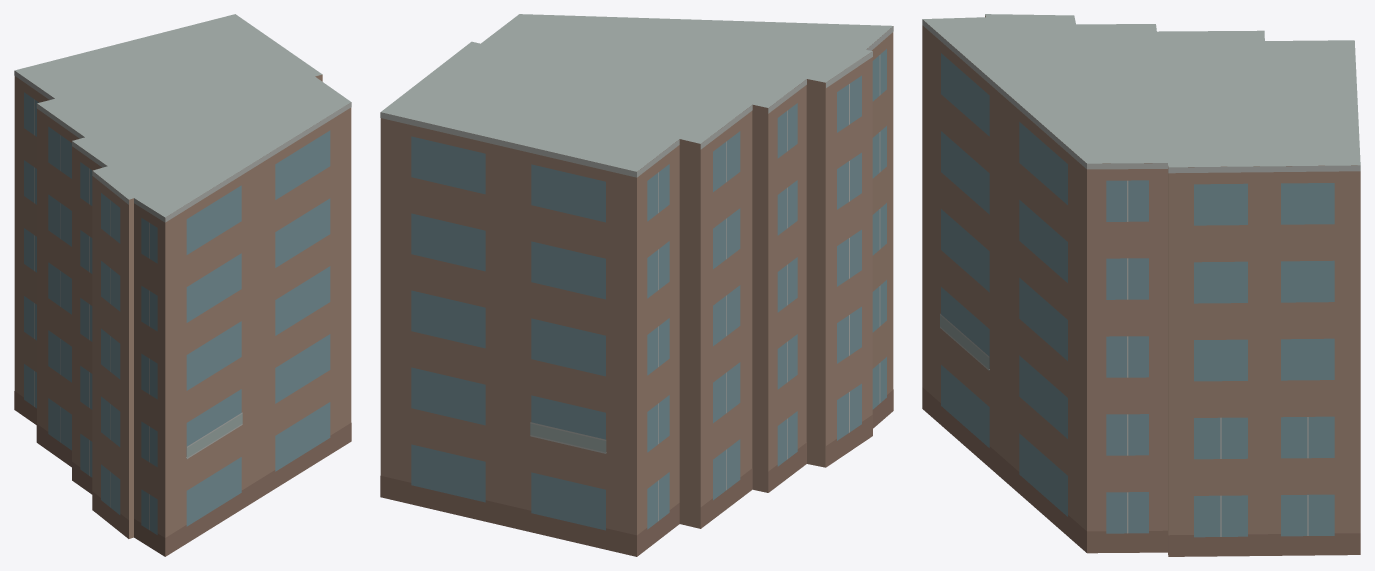
The model's file is survey-upis-32656732.glb.
3 renders of one model, left to right at view 1: azimuth 30°, elevation 25°; view 2: azimuth 150°, elevation 25°; view 3: azimuth 270°, elevation 25°, orthographic. The views are drawn at different scales.
Parts seen in each view (by area): view 1: survey-upis-32656732.tmp; view 2: survey-upis-32656732.tmp; view 3: survey-upis-32656732.tmp.
Boxes of the visible parts, box(x1,y1,x2,y2) form: survey-upis-32656732.tmp: box(14, 14, 351, 556); survey-upis-32656732.tmp: box(380, 14, 893, 556); survey-upis-32656732.tmp: box(922, 14, 1360, 556).
Size of the model in its own units: 13.6 by 16.1 by 16.43.
